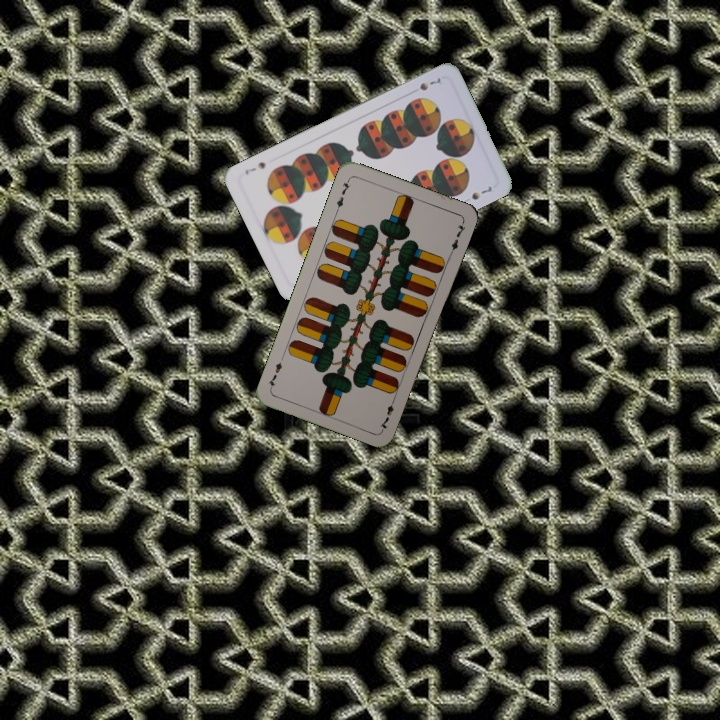E7: (376, 393, 398, 432), (332, 175, 353, 214)
S7: (415, 74, 444, 93)
